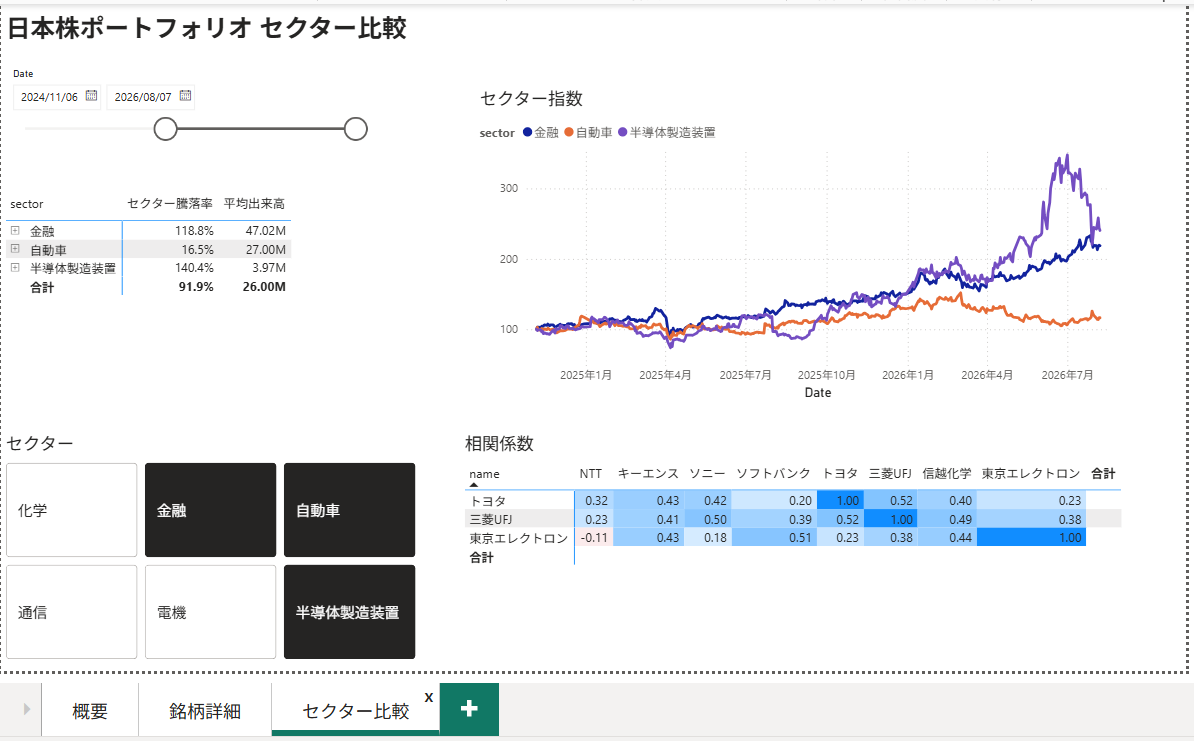

The dashboard page shown, as its layout file describes it:
{"tool":"powerbi","page":{"name":"セクター比較","canvas":[1280,720],"ordinal":2},"visuals":[{"type":"slicer","fields":{"Values":["dim_date.Date"]},"box":[0,63.6,403.9,135.2],"z":0},{"type":"pivotTable","fields":{"Rows":["symbols.sector","symbols.name"],"Values":["prices.セクター騰落率","prices.平均出来高"]},"box":[0,198.8,480,197],"z":1000},{"type":"lineChart","title":"セクター指数","fields":{"Category":["dim_date.Date"],"Y":["prices.セクター指数"],"Series":["symbols.sector"]},"box":[511.3,86.9,708.4,344.8],"z":2000},{"type":"advancedSlicerVisual","title":"セクター","fields":{"Values":["symbols.sector"]},"box":[0,459.4,452.2,253.4],"z":3000},{"type":"pivotTable","title":"相関係数","fields":{"Rows":["symbols.name"],"Columns":["symbols_相手.name2"],"Values":["prices.相関係数"]},"box":[495.2,459.4,784.5,260.6],"z":4000},{"type":"textbox","box":[0,0,480,48.4],"z":5000}]}

Visuals, with their boxes on the page's 1280x720 design canvas (x1, y1, x2, y2). These are canvas units, not pixel positions in the 1194x741 screenshot, which may show the page scaled, cropped or inside an application window:
slicer - dim_date.Date: Rect(0, 64, 404, 199)
pivotTable - symbols.sector x symbols.name: Rect(0, 199, 480, 396)
"セクター指数" lineChart: Rect(511, 87, 1220, 432)
"セクター" advancedSlicerVisual: Rect(0, 459, 452, 713)
"相関係数" pivotTable: Rect(495, 459, 1280, 720)
textbox: Rect(0, 0, 480, 48)
